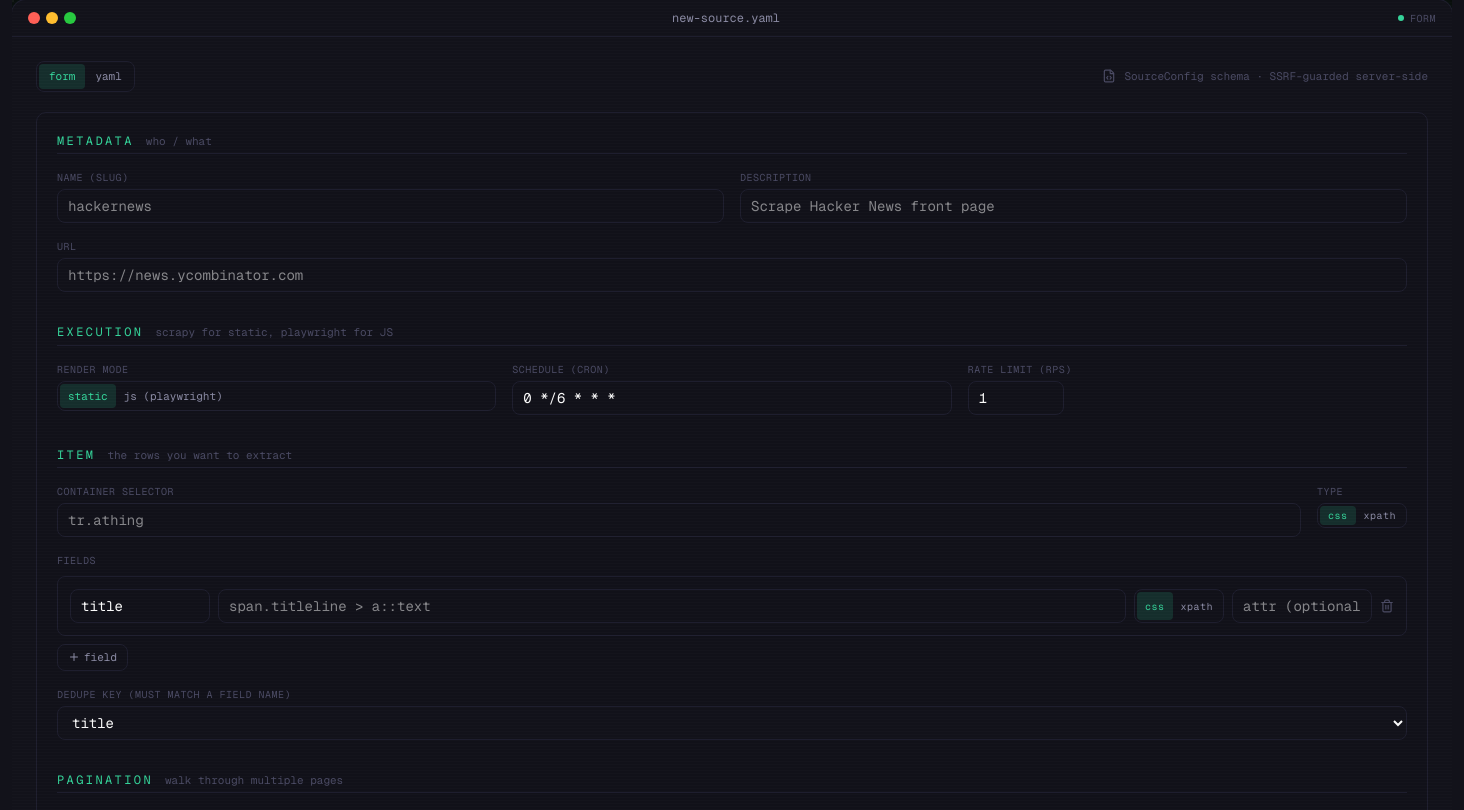
Scenario: SourceEditor (create mode) › toggles to YAML mode and renders the textarea
The width and height of the screenshot is (1464, 810).
Click the button "yaml": (109, 76) [85,64,132,88]
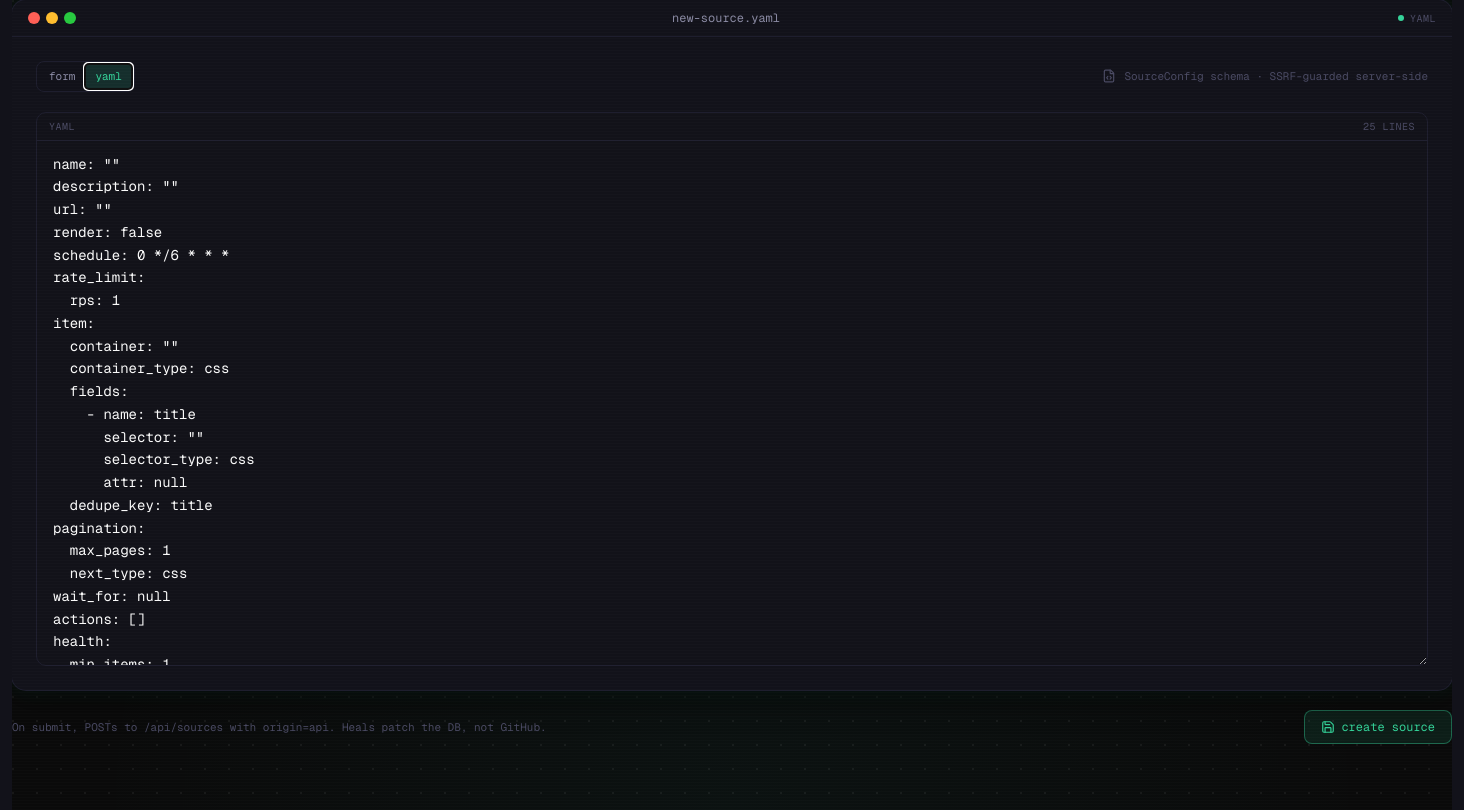
expect the text box is shown: met
